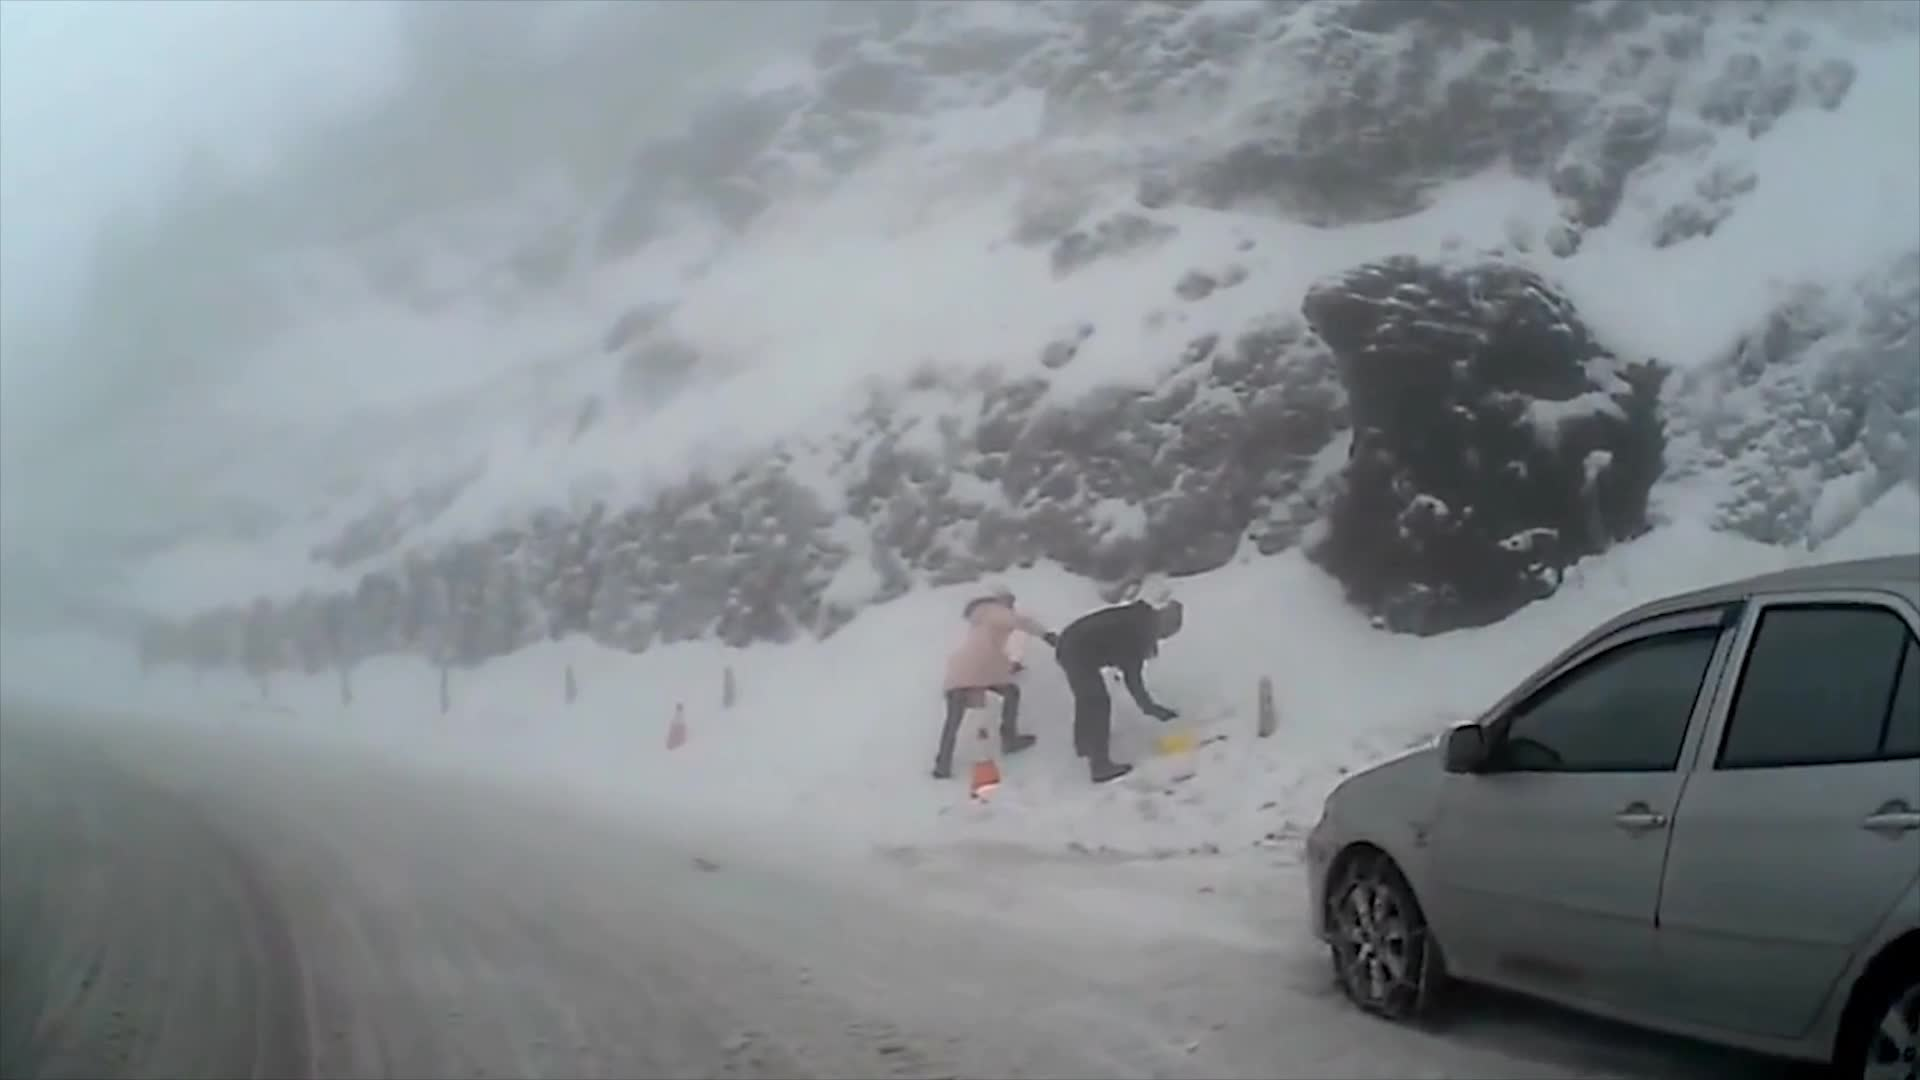pedestrian: (928, 584, 1058, 781), (1053, 601, 1183, 786)
vehicle: (1304, 552, 1920, 1080)
